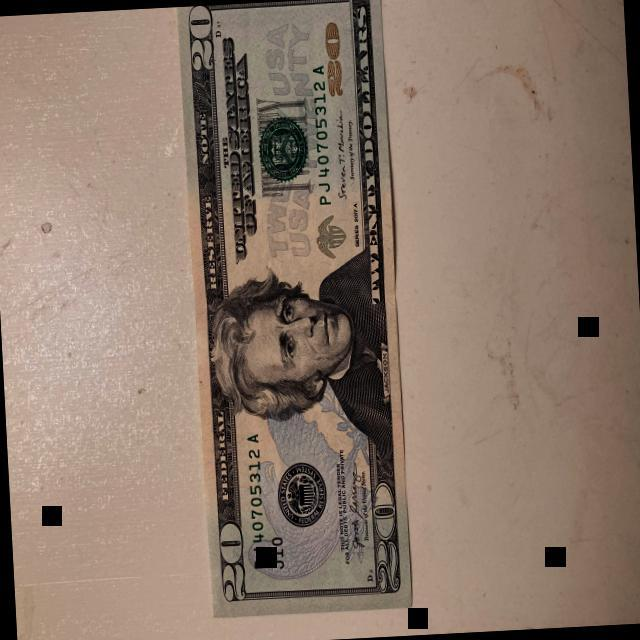twenty: (175, 0, 414, 620)
